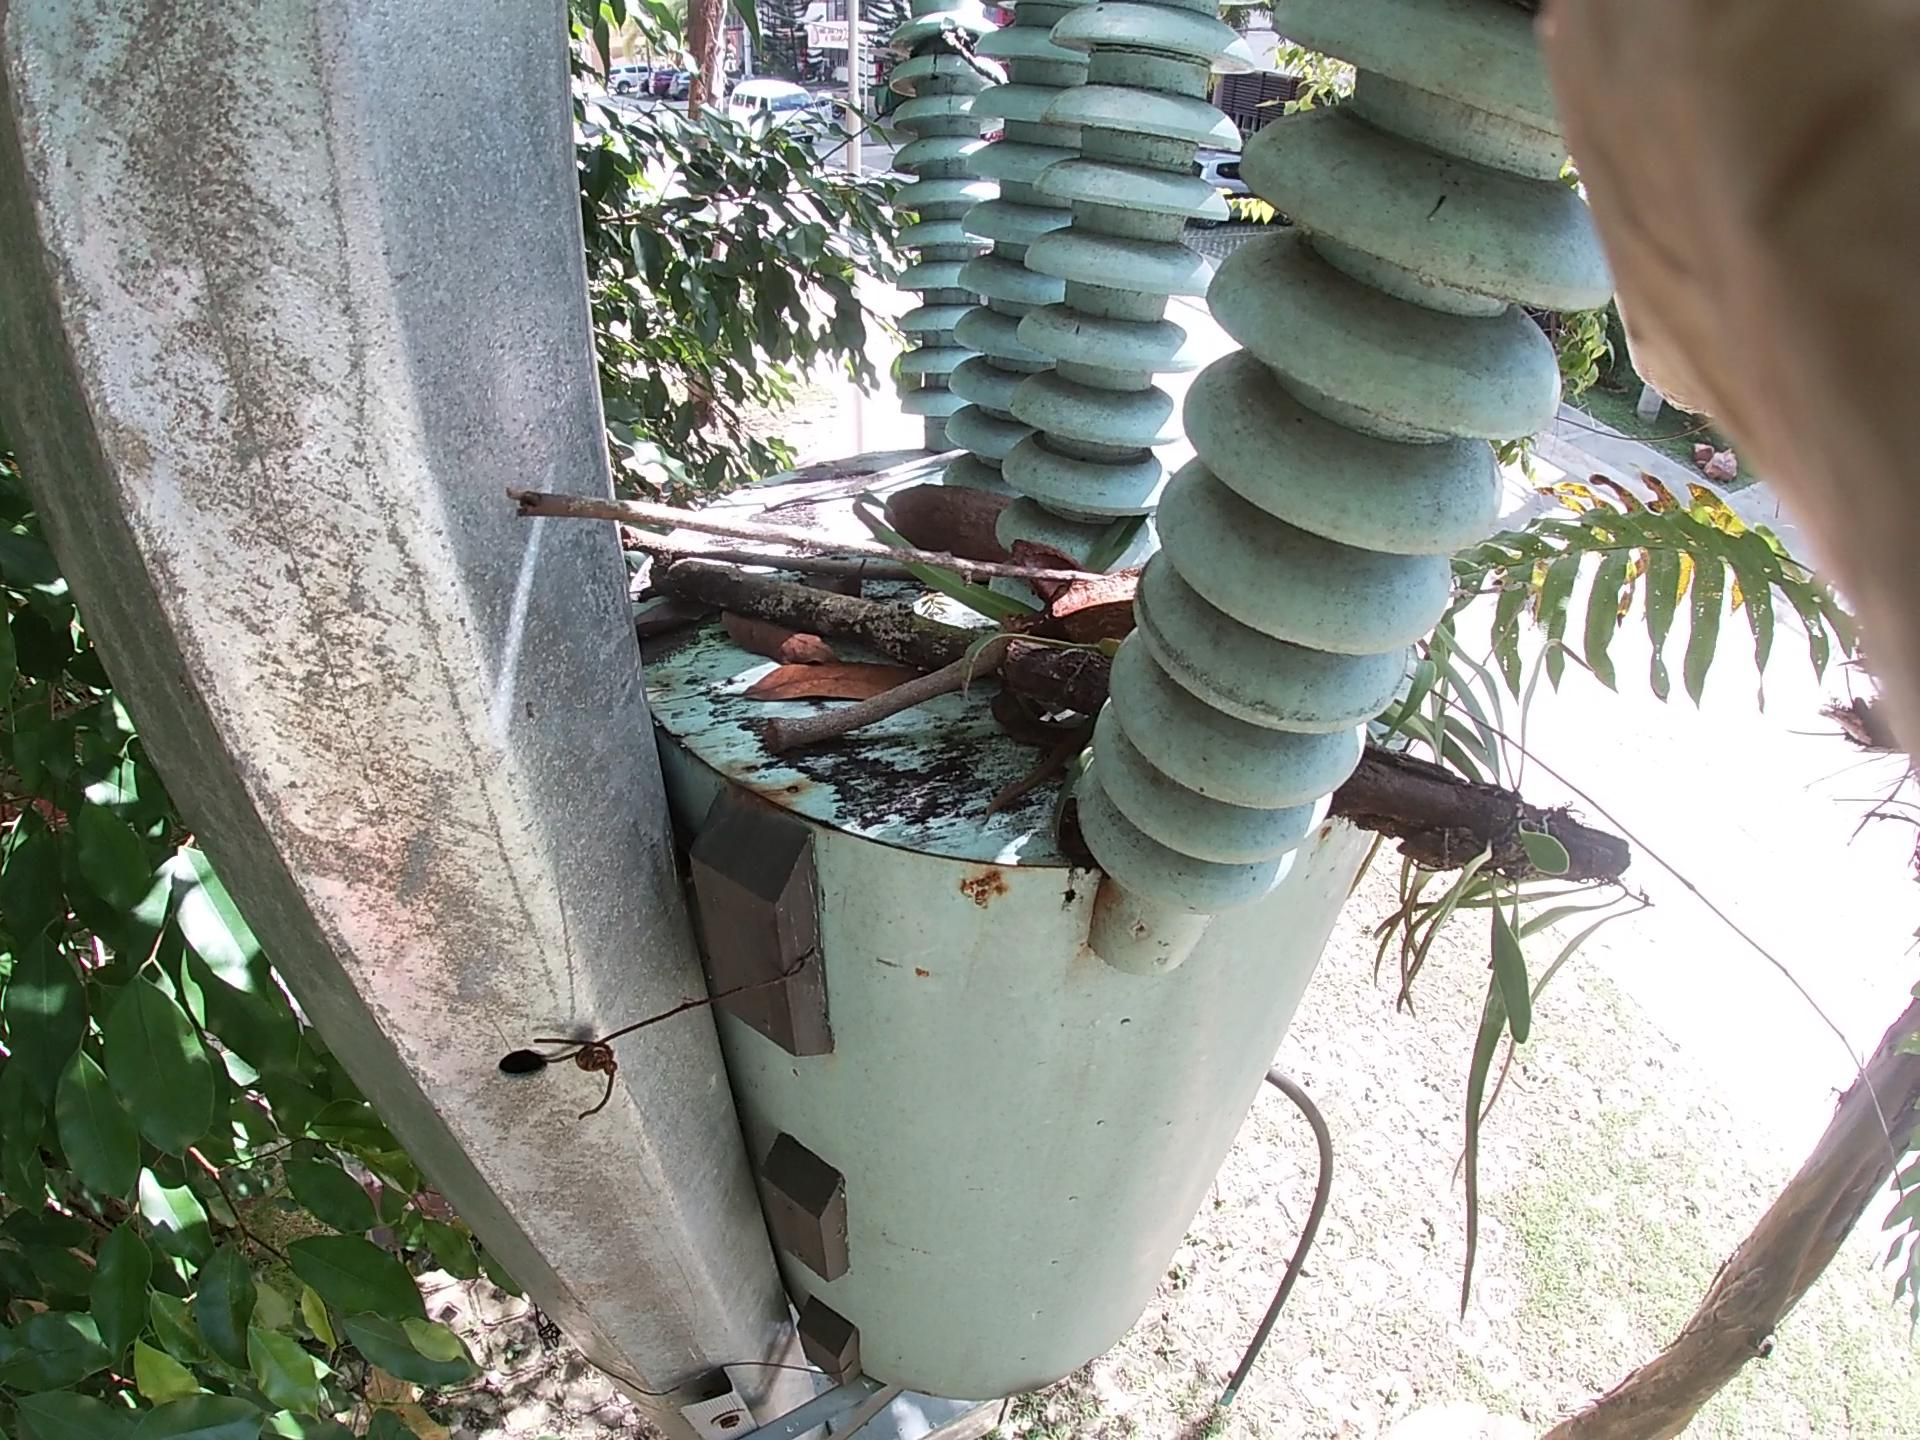branch with leaves: (641, 545, 1634, 926)
leaf: (718, 608, 833, 667), (742, 667, 934, 700)
mahogany fruit: (878, 461, 1051, 540), (1034, 566, 1152, 656)
tree branch: (497, 484, 1123, 601), (770, 626, 1033, 743)
